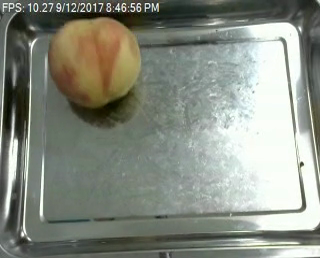Peach: (50, 15, 142, 107)
